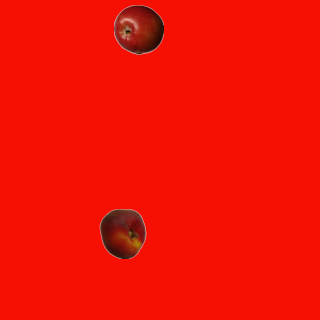Apple Braeburn: (113, 4, 163, 54)
Nectarine Flat: (97, 208, 147, 258)
